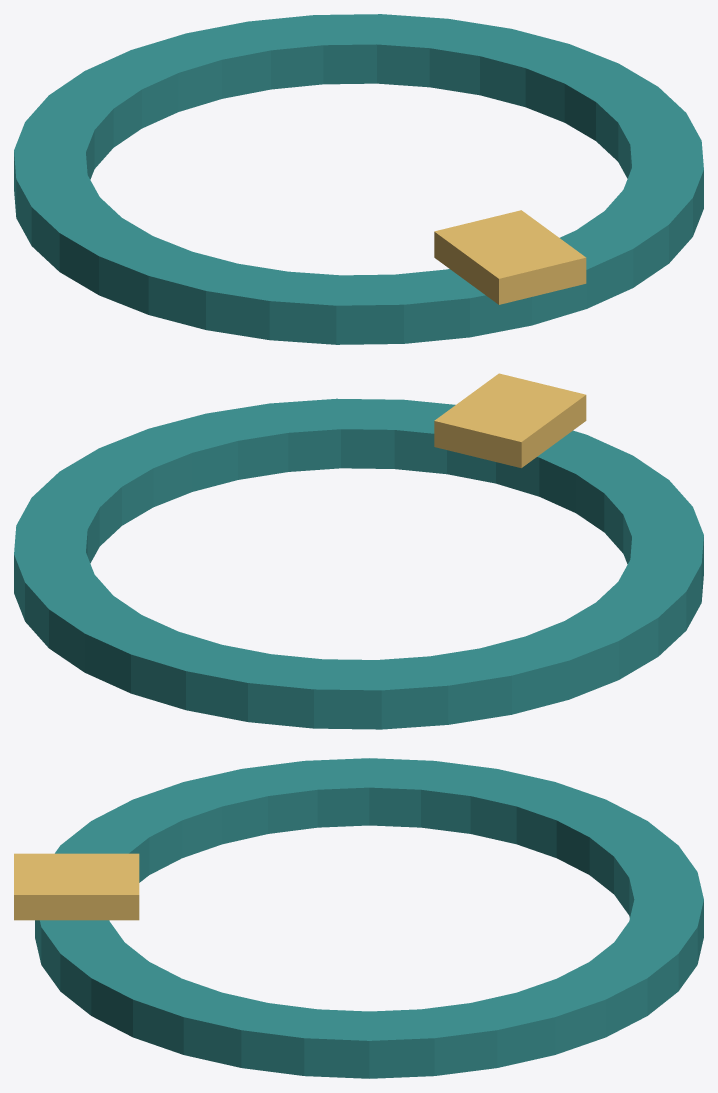
File: tabletop-game-components-objective-ring-261a7f34__20880.glb
The picture shows the model from 3 angles, top to bottom: view 1: azimuth 30°, elevation 25°; view 2: azimuth 150°, elevation 25°; view 3: azimuth 270°, elevation 25°; orthographic projection. The views are drawn at different scales.
Visible parts, largest first — view 1: objective-ring; view 2: objective-ring; view 3: objective-ring.
Boxes of the visible parts, x1,y1,x2,y2 form: objective-ring: (14, 14, 703, 344); objective-ring: (14, 373, 703, 729); objective-ring: (14, 758, 703, 1078).
Size of the model in its own units: 0.048 by 0.005 by 0.0495.
